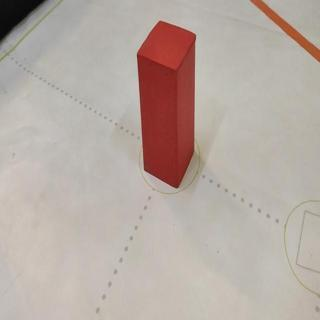redbox: (142, 21, 194, 184)
